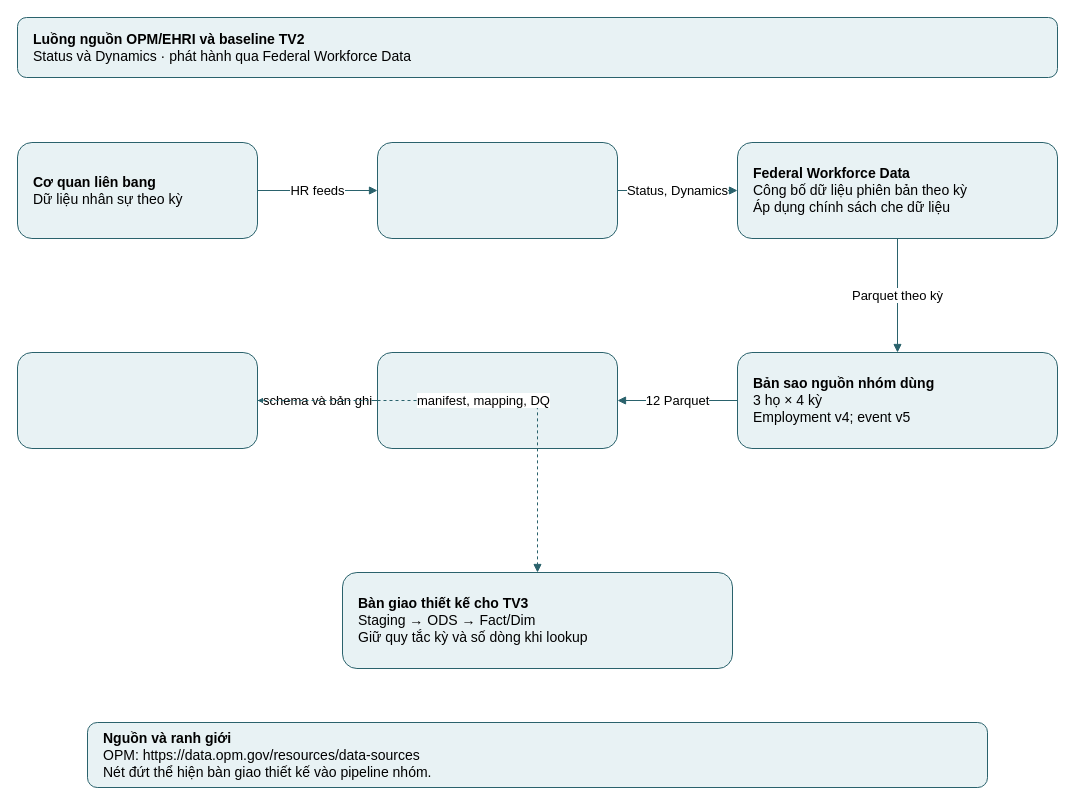
Image size: 1075x805. Some labels were removed from this diagram. The shapes that lost their labels are listed below. From the top down, each one's centre as x and y in pixels, then its label:
At (497,190): "OPM · EHRI Status và Dynamics".
At (137,400): "Đầu ra TV2 Dictionary, audit, ERD, mapping EDA và quy tắc chất lượng".
At (497,400): "Baseline kiểm tại TV2 Manifest, schema và SHA-256".
